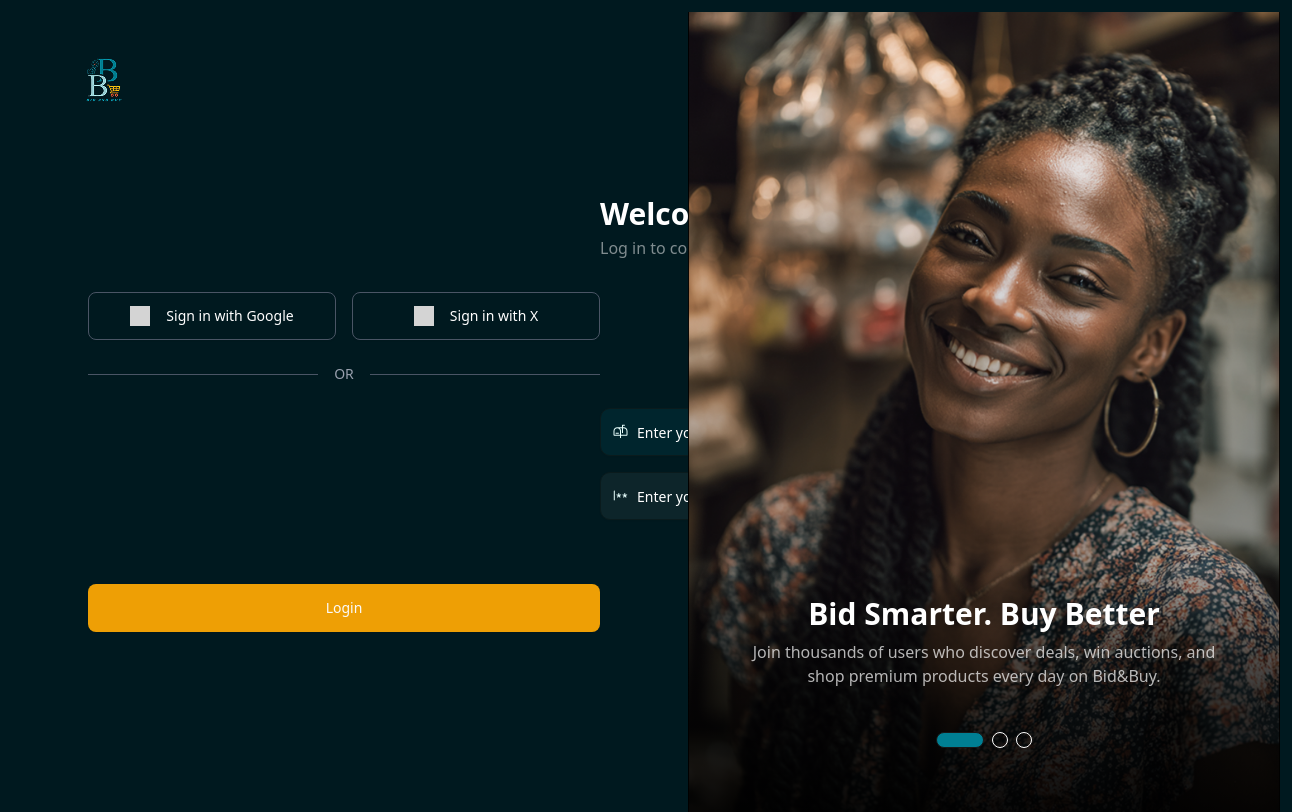
Scenario: LoginForm › shows validation errors for required fields when empty
What coordinates should you click on to do the following:
click the button "Login"
I would click on:
 (344, 608)
Its box is [88,584,600,632].
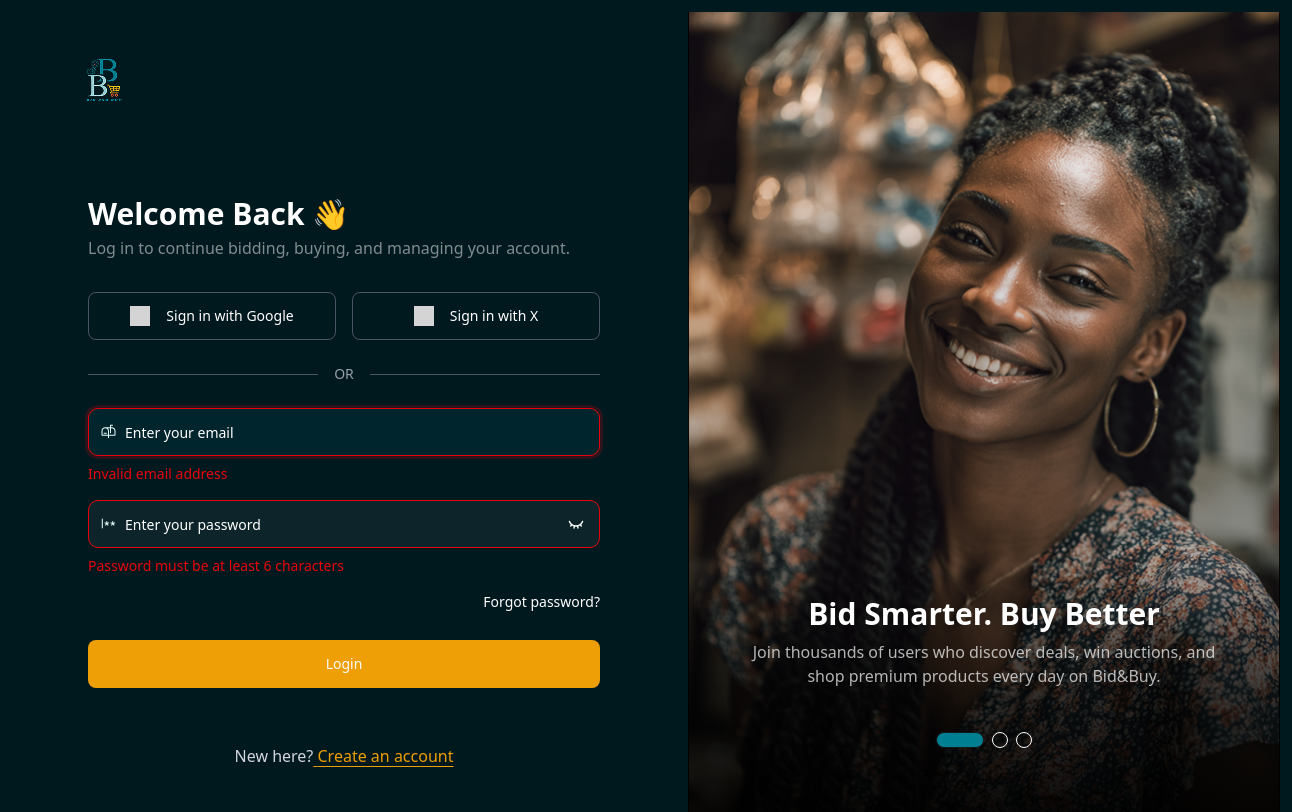
Expected: the text "Invalid email address" is shown, [88,464,227,483]
Expected: the text "Password must be at least 6 characters" is shown, [88,556,344,575]
